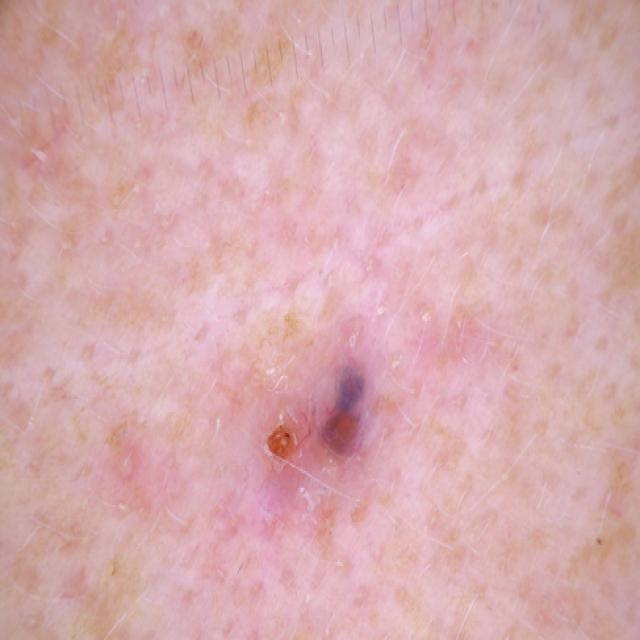Carcinoma: (238, 331, 435, 555)
